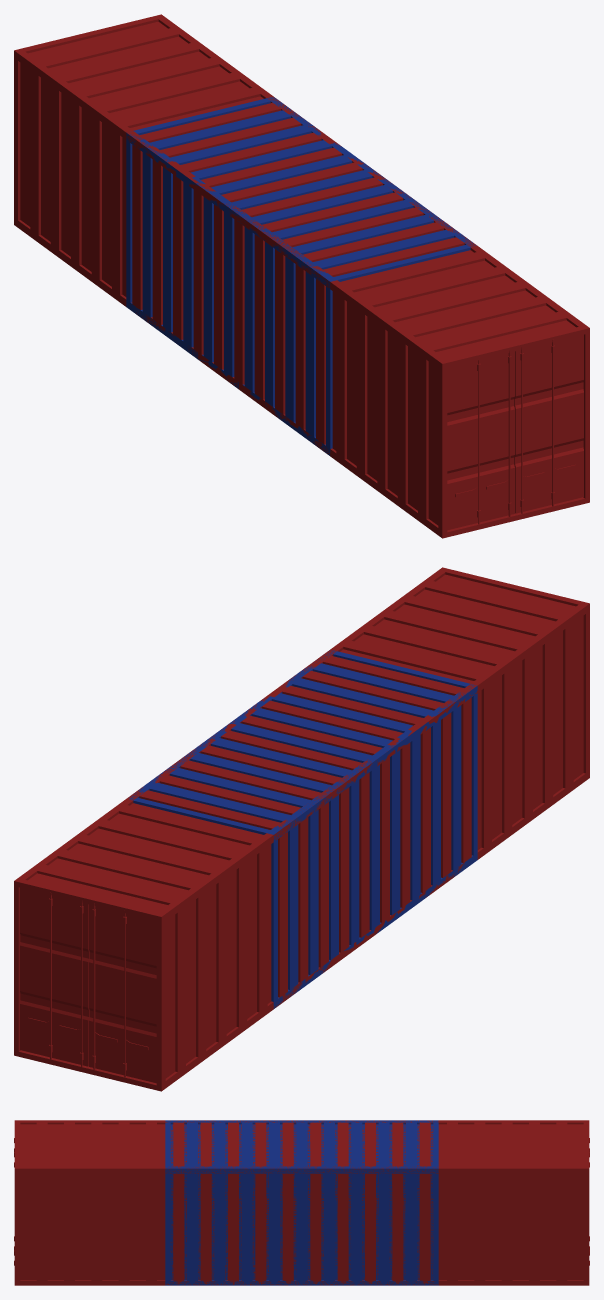
File: Cans.fbx
The picture shows the model from 3 angles, top to bottom: view 1: azimuth 30°, elevation 25°; view 2: azimuth 150°, elevation 25°; view 3: azimuth 270°, elevation 25°; orthographic projection. The views are drawn at different scales.
Visible parts, largest first — view 1: Container_01_2, Container_02_2; view 2: Container_01_2, Container_02_2; view 3: Container_01_2, Container_02_2.
Part boxes in pixels (x1,y1,x2,y2): Container_01_2: [14, 14, 589, 538]; Container_02_2: [126, 97, 476, 455]; Container_01_2: [14, 567, 589, 1091]; Container_02_2: [129, 650, 477, 1008]; Container_01_2: [14, 1120, 589, 1285]; Container_02_2: [165, 1120, 438, 1285].
Bounding box in the file's own units: 238 × 270 × 1203.
Materials: 5 (4 with a texture image).
